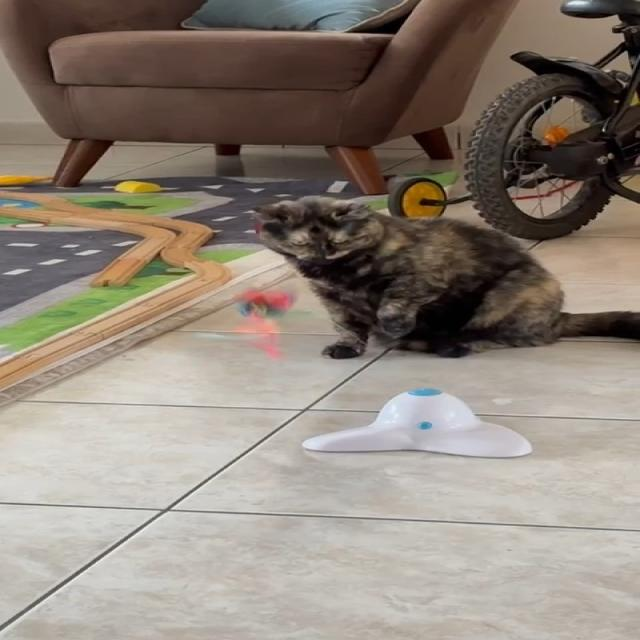authorized: (249, 194, 639, 359)
